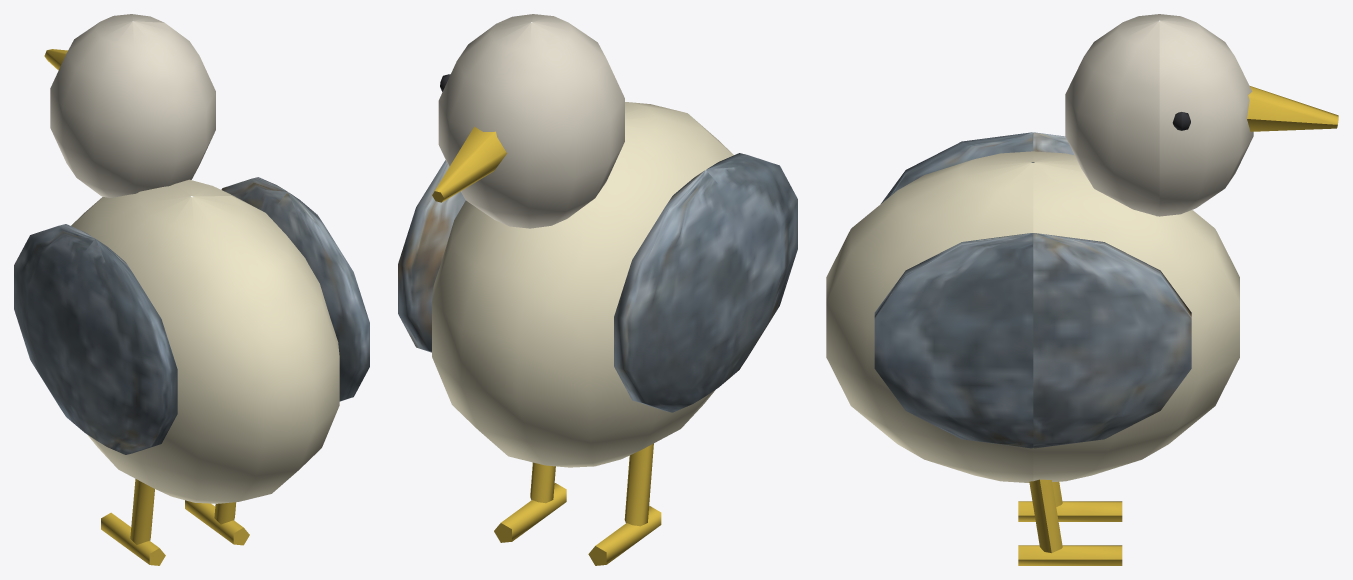
File: Gull_Perched.glb
The picture shows the model from 3 angles, left to right: view 1: azimuth 30°, elevation 25°; view 2: azimuth 150°, elevation 25°; view 3: azimuth 270°, elevation 25°; orthographic projection. The views are drawn at different scales.
Visible parts, largest first — view 1: Gull_Perched; view 2: Gull_Perched; view 3: Gull_Perched.
Part boxes in pixels (left/top/right/bottom): Gull_Perched: left=14, top=14, right=369, bottom=565; Gull_Perched: left=398, top=14, right=797, bottom=565; Gull_Perched: left=826, top=14, right=1338, bottom=565.
Bounding box in the file's own units: 0.4039 × 0.7743 × 0.6897.
1 material, 1 textured.
